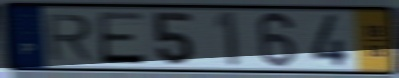1: (213, 9, 242, 69)
4: (310, 12, 350, 69)
5: (150, 10, 196, 68)
6: (255, 10, 298, 69)
E: (95, 10, 148, 66)
R: (44, 12, 96, 62)
